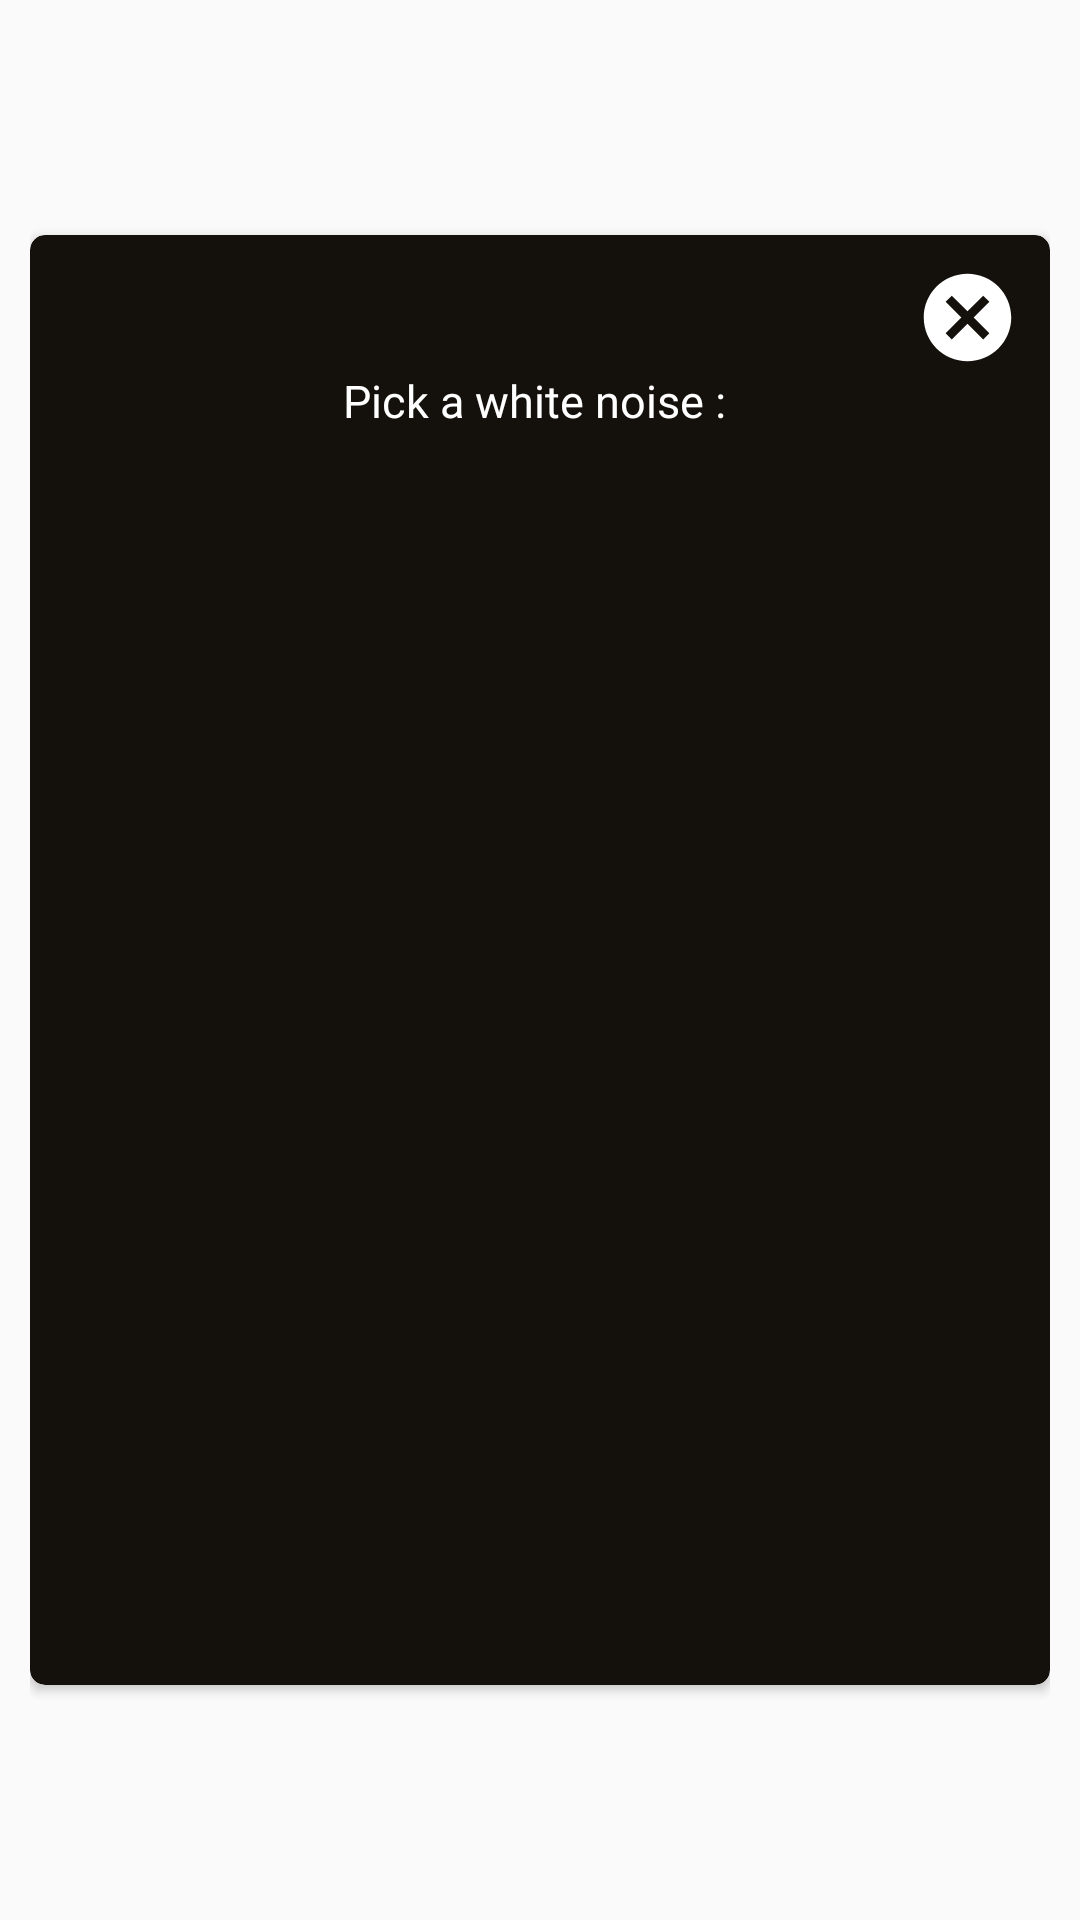

Locate icon controls on the screen. Image size 1080 × 1920, boxes as (x1=x1, y1=y1, x2=x2, y2=y2).
cancel: (x1=923, y1=273, x2=1012, y2=362)
